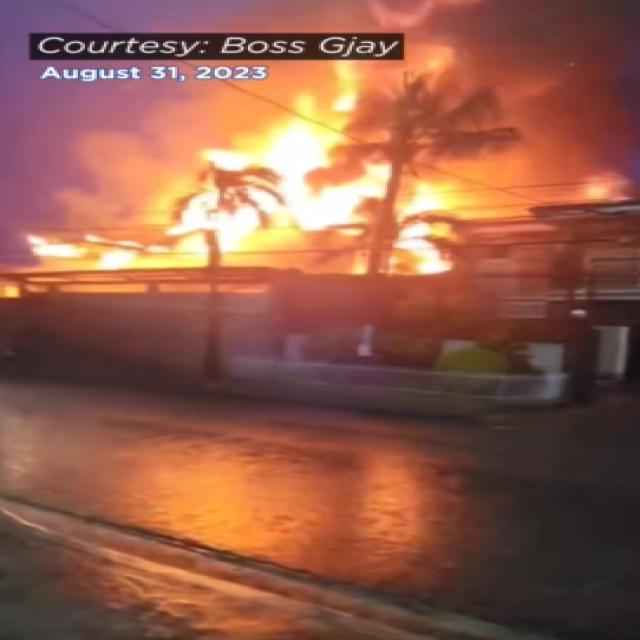Fire: (411, 17, 640, 200), (168, 93, 434, 241), (17, 206, 205, 274)
